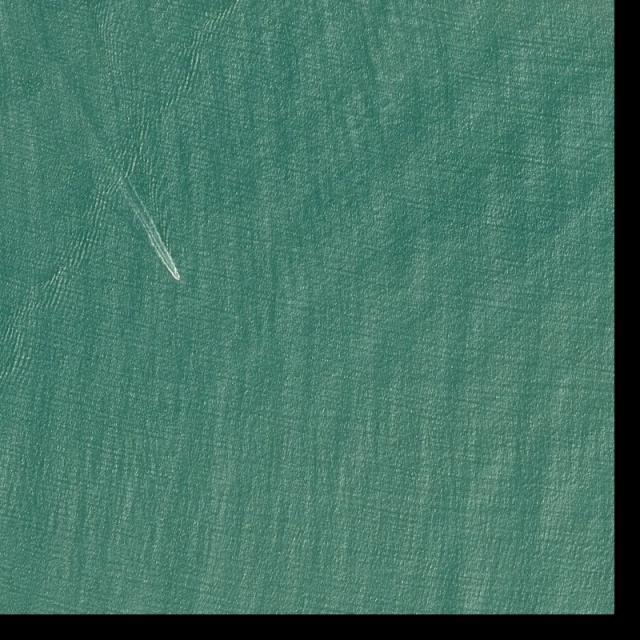ship: (176, 276, 182, 282)
